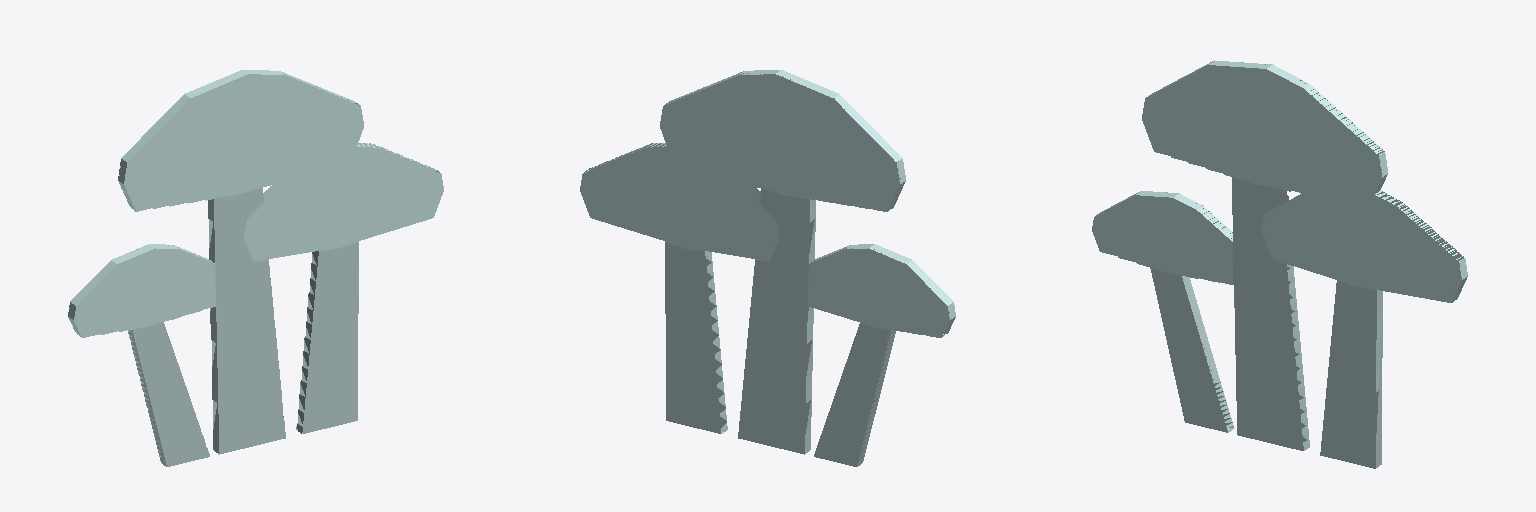
3 renders of one model, left to right at view 1: azimuth 30°, elevation 25°; view 2: azimuth 150°, elevation 25°; view 3: azimuth 330°, elevation 25°, orthographic.
Parts seen in each view (by area): view 1: shroom3; view 2: shroom3; view 3: shroom3.
Part boxes in pixels (x1,y1,x2,y2): shroom3: (68,70,443,466); shroom3: (580,70,955,466); shroom3: (1092,60,1467,468).
Bounding box in the file's own units: 14.15 × 13.64 × 0.4074.
Materials: 1 (1 with a texture image).